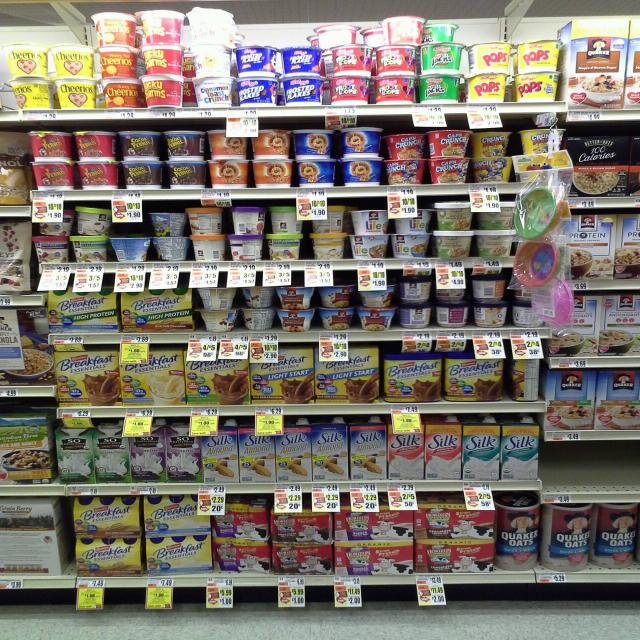unorganised: (73, 203, 115, 235), (384, 14, 425, 45), (473, 131, 514, 157)
